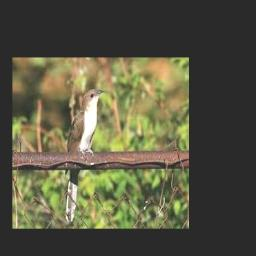Cuckoo: (66, 89, 105, 223)
